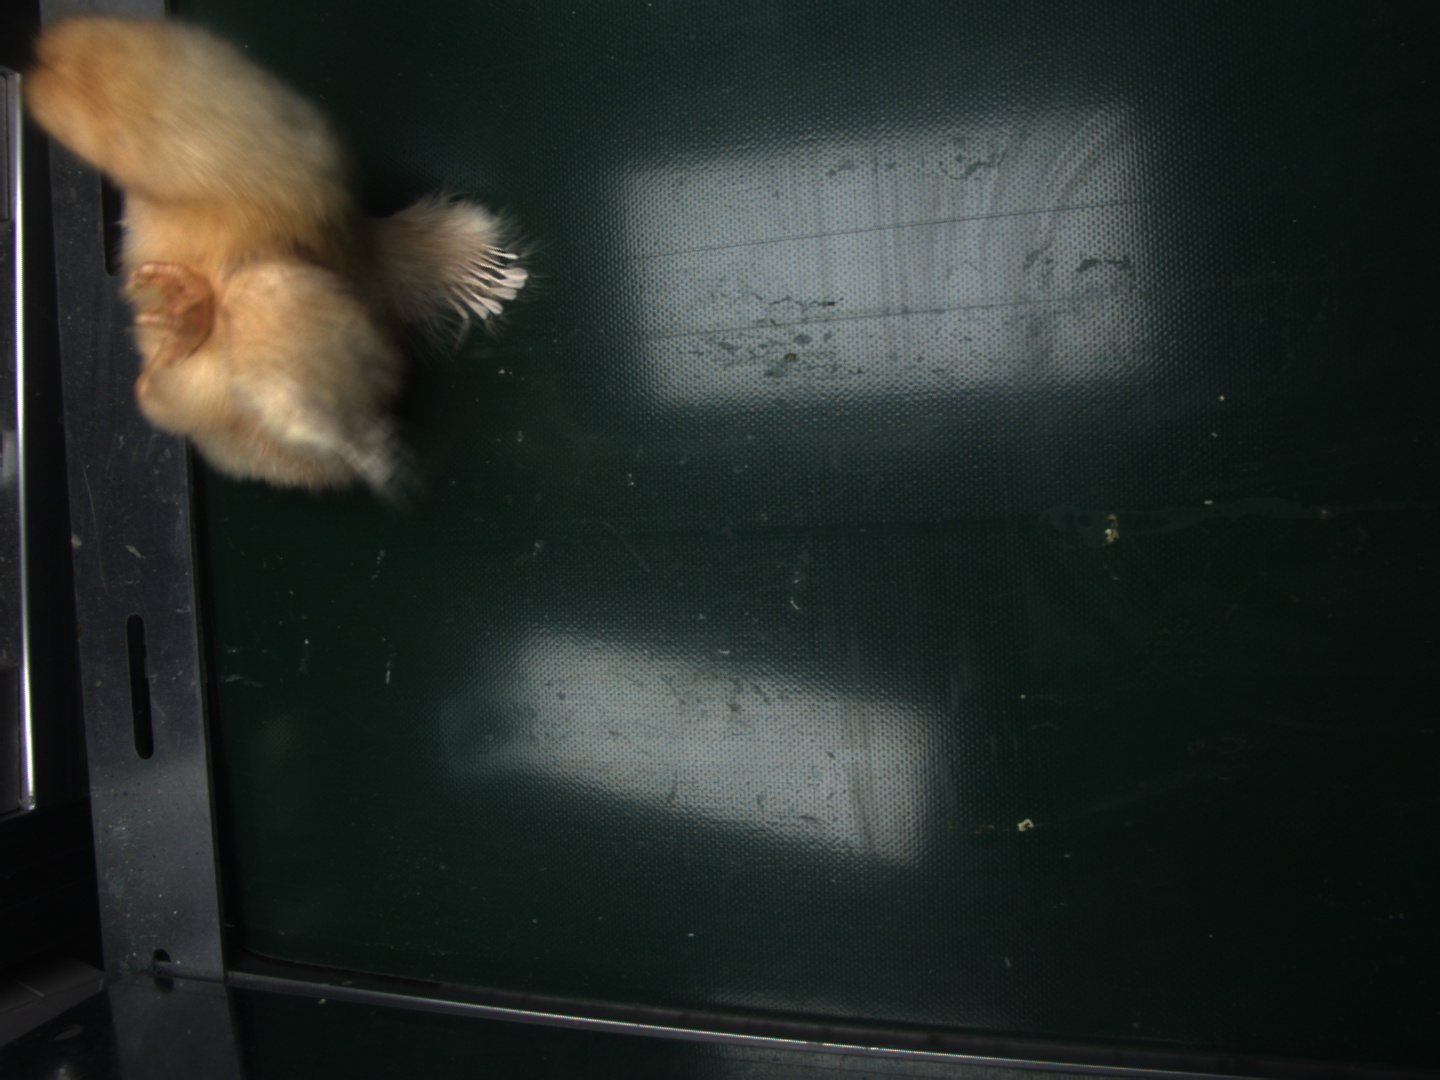female: (450, 239, 517, 312)
